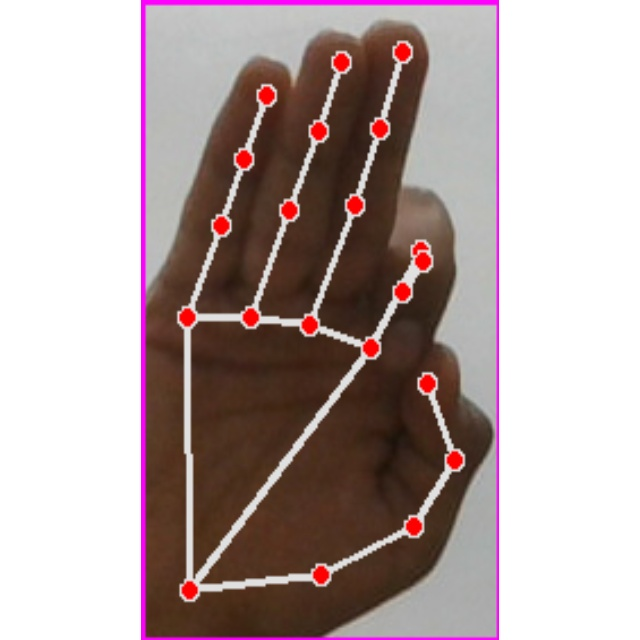F: (141, 0, 499, 640)
